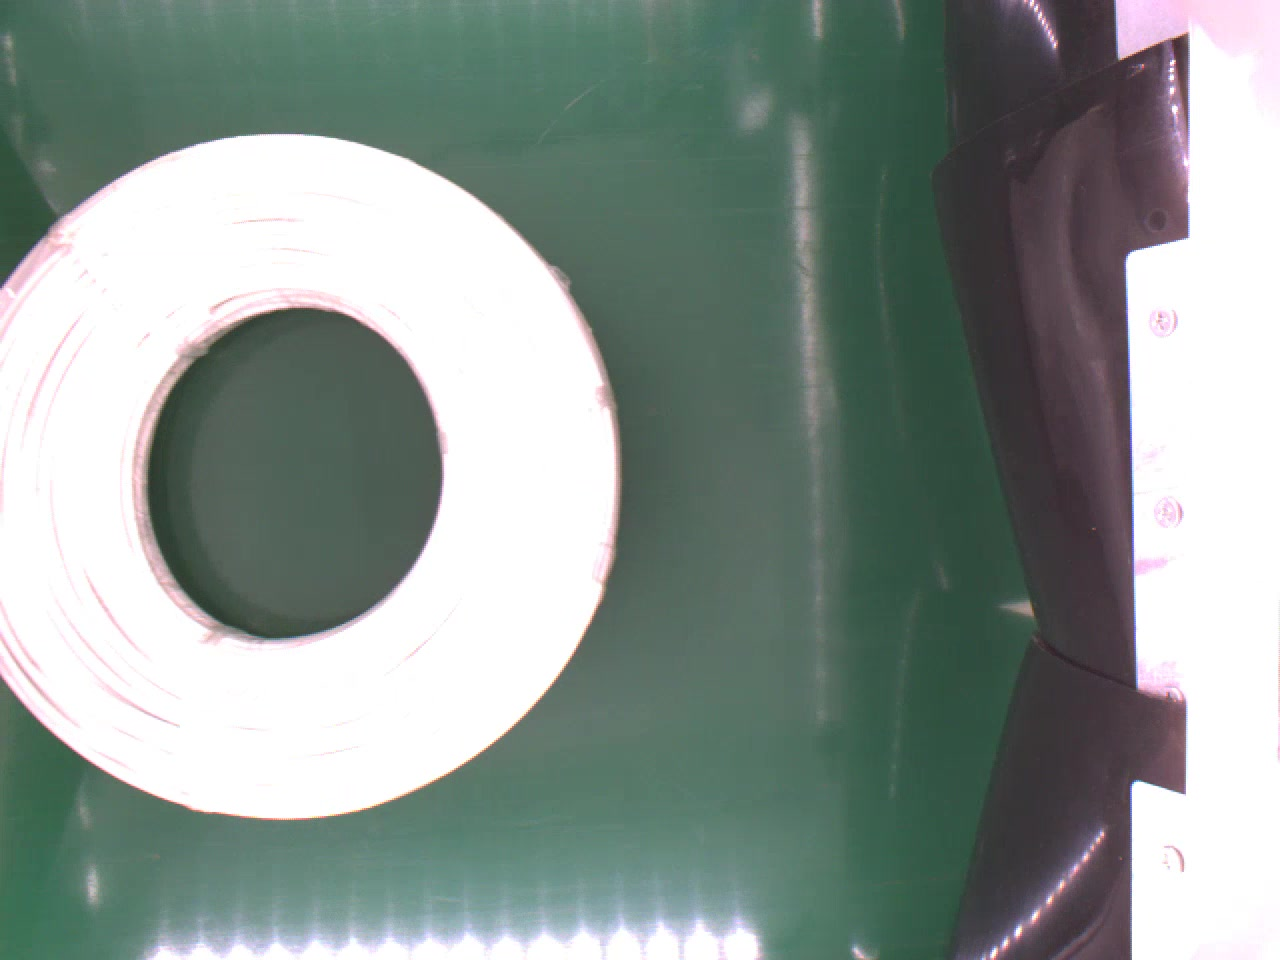white: (0, 128, 625, 826)
